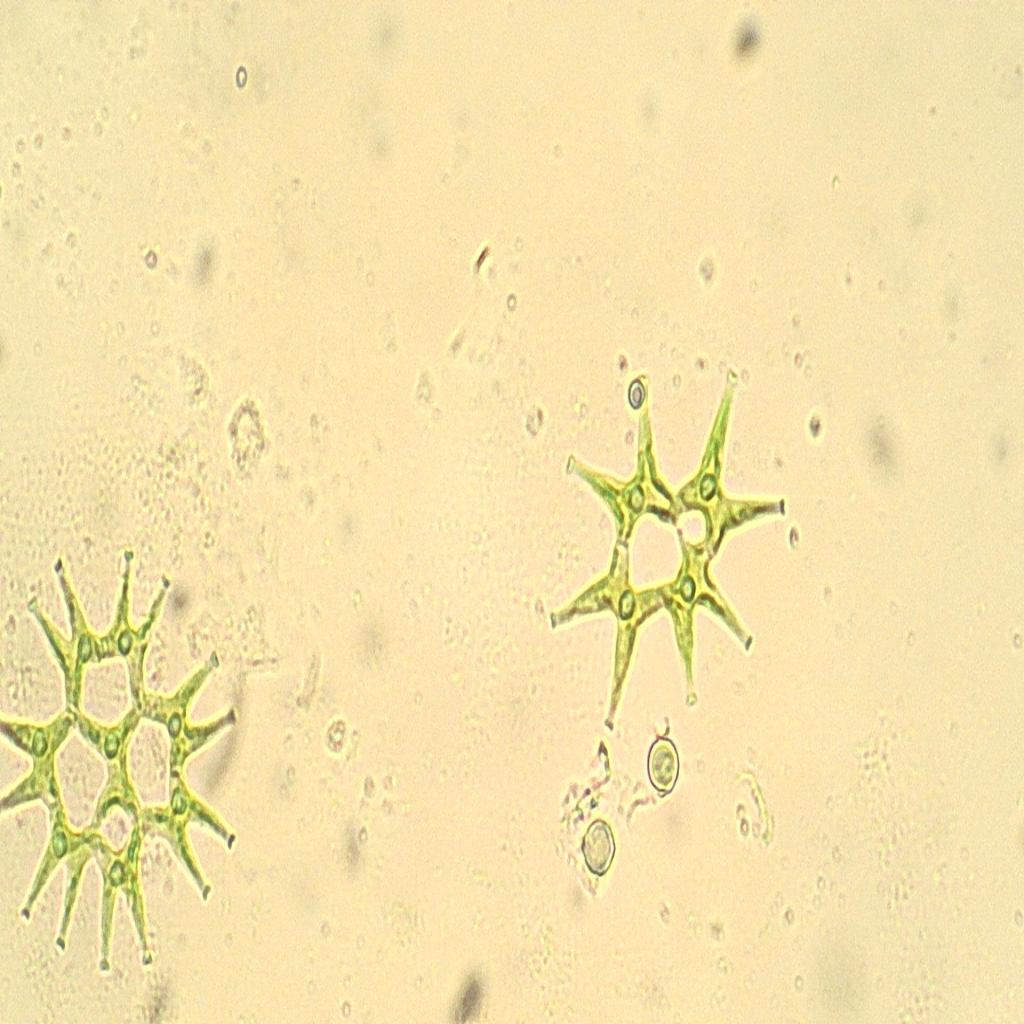Pediastrum_CF: (537, 342, 805, 742)
